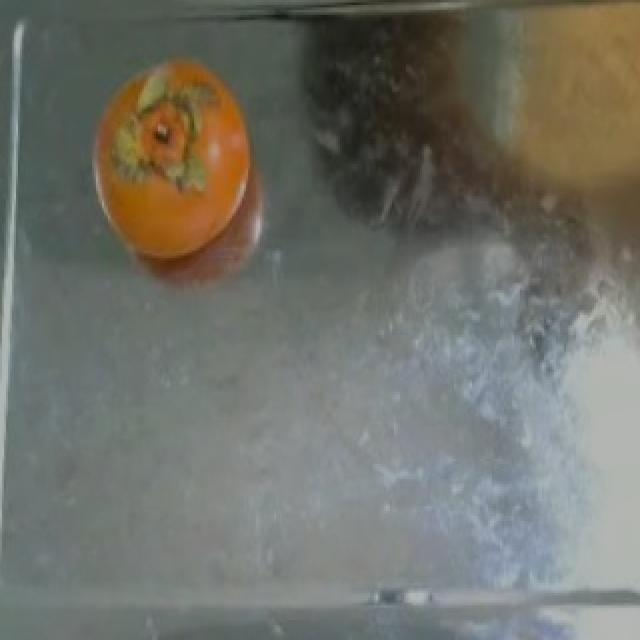Fruit: (80, 50, 268, 288)
